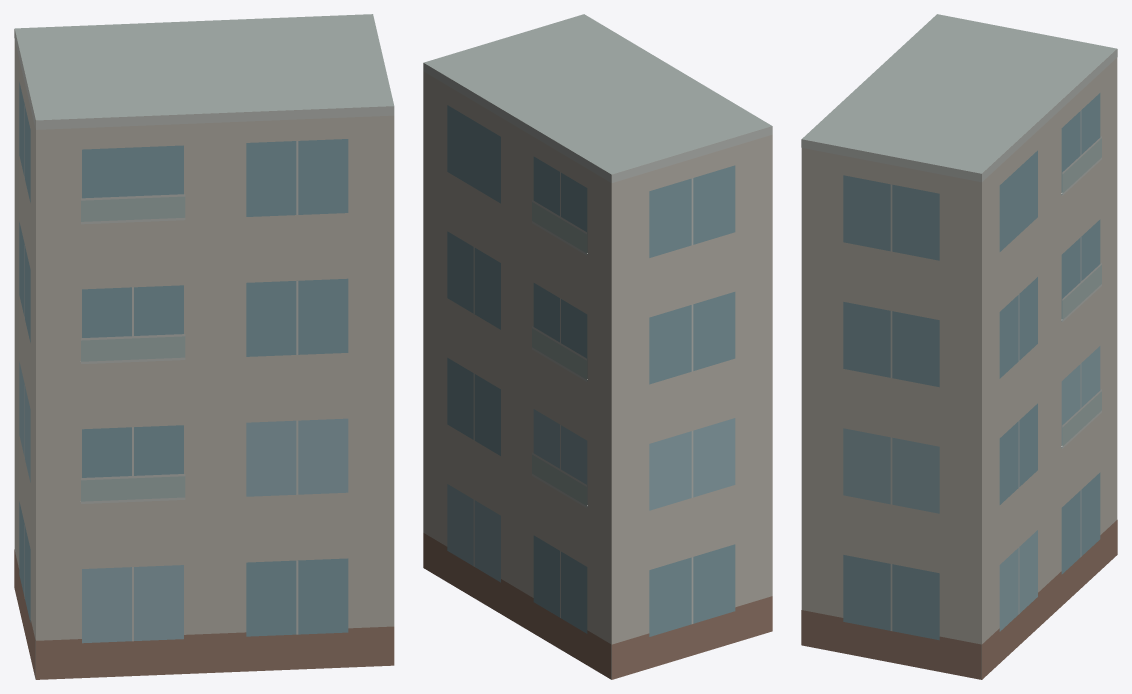
The model's file is survey-upis-32972873.glb.
3 views of the same model, side by side, from view 1: azimuth 30°, elevation 25°; view 2: azimuth 150°, elevation 25°; view 3: azimuth 270°, elevation 25° (orthographic). The views are drawn at different scales.
Parts seen in each view (by area): view 1: survey-upis-32972873.tmp; view 2: survey-upis-32972873.tmp; view 3: survey-upis-32972873.tmp.
Boxes of the visible parts, left/top/right/bottom form: survey-upis-32972873.tmp: left=14, top=14, right=394, bottom=679; survey-upis-32972873.tmp: left=423, top=14, right=772, bottom=679; survey-upis-32972873.tmp: left=801, top=14, right=1117, bottom=679.
Bounding box in the file's own units: 9.76 × 14.4 × 8.16.
